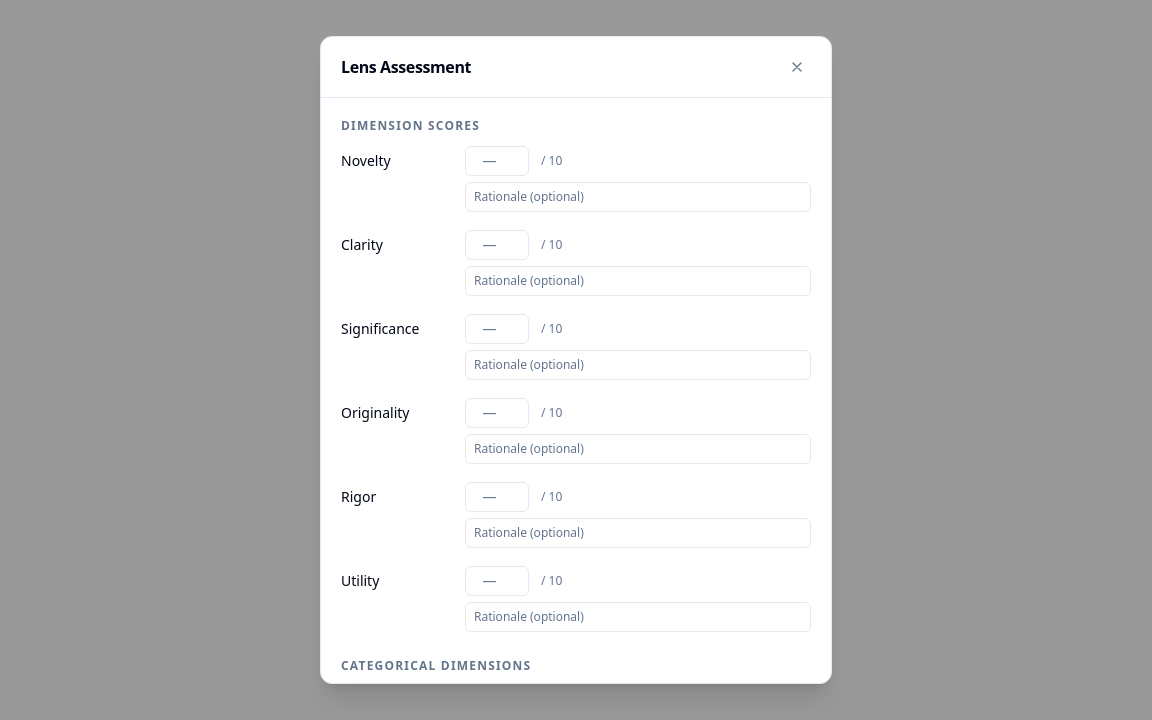
AssessmentModal — error state › shows error banner on API failure, keeps modal open
Type "9" into the number field labelled "Novelty" at (497, 161), box x1=465 y1=146 x2=529 y2=176
(page scrolled)
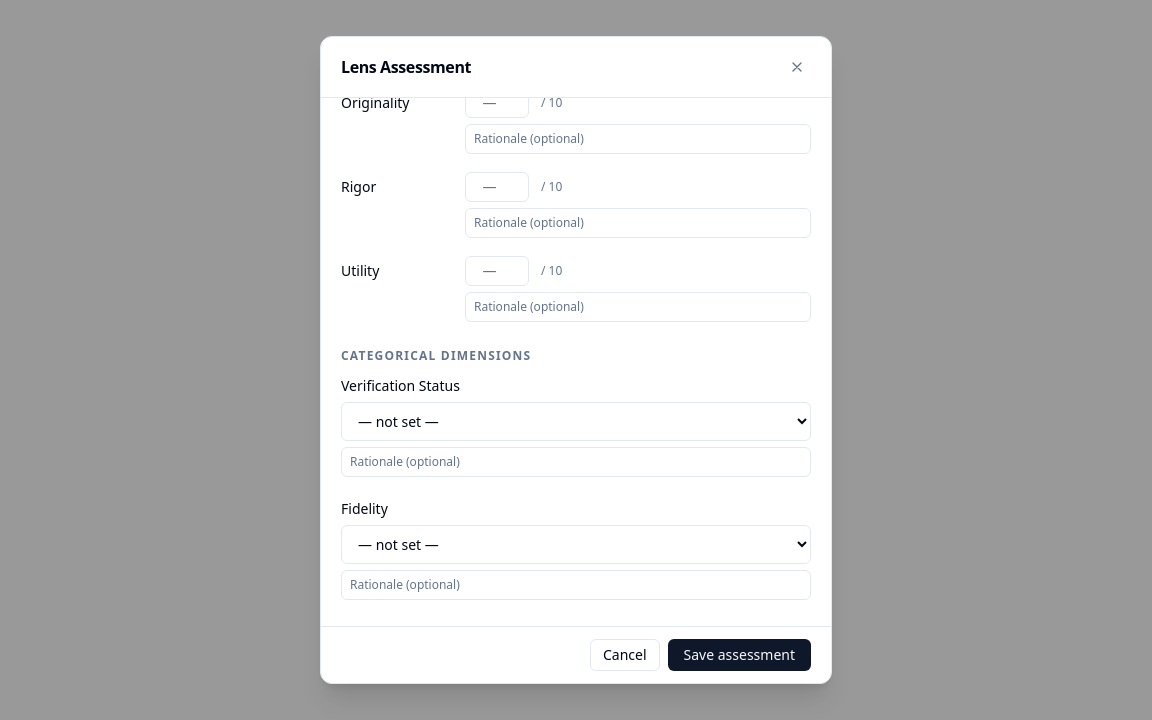
Click the button "Save assessment" at (739, 655), box x1=668 y1=639 x2=811 y2=671
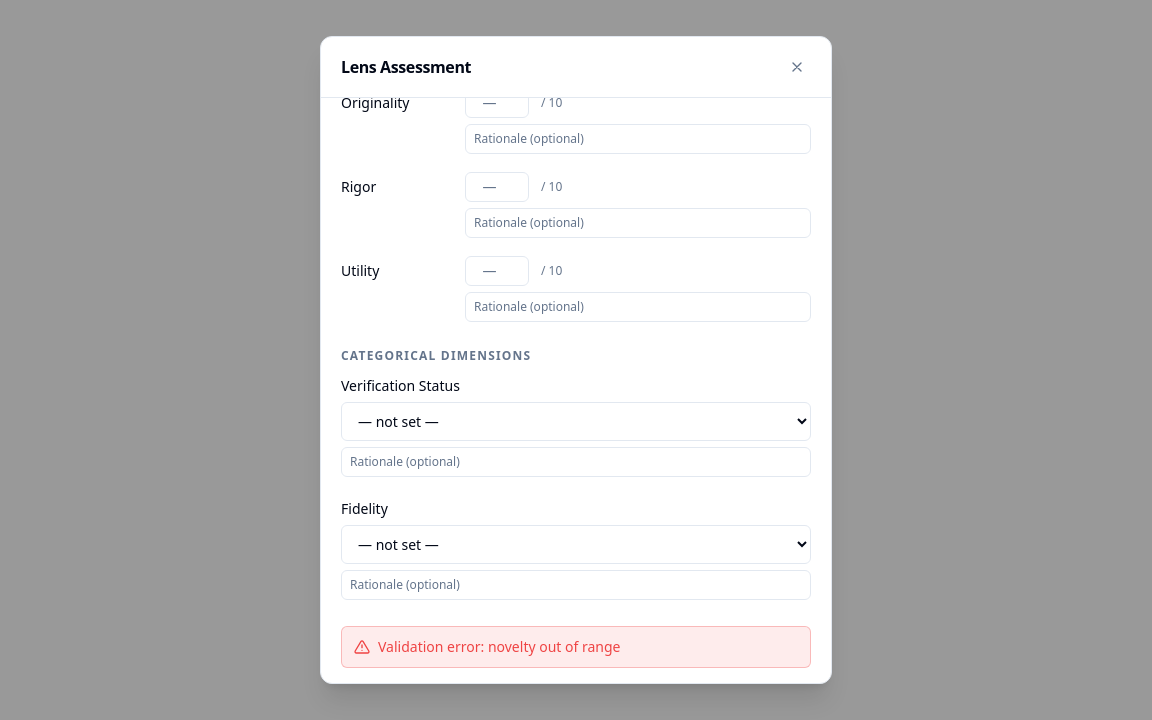
Expected: the dialog is shown, x1=320 y1=36 x2=832 y2=684
Result: the message "Validation error: novelty out of range" is shown at x1=341 y1=626 x2=811 y2=668
